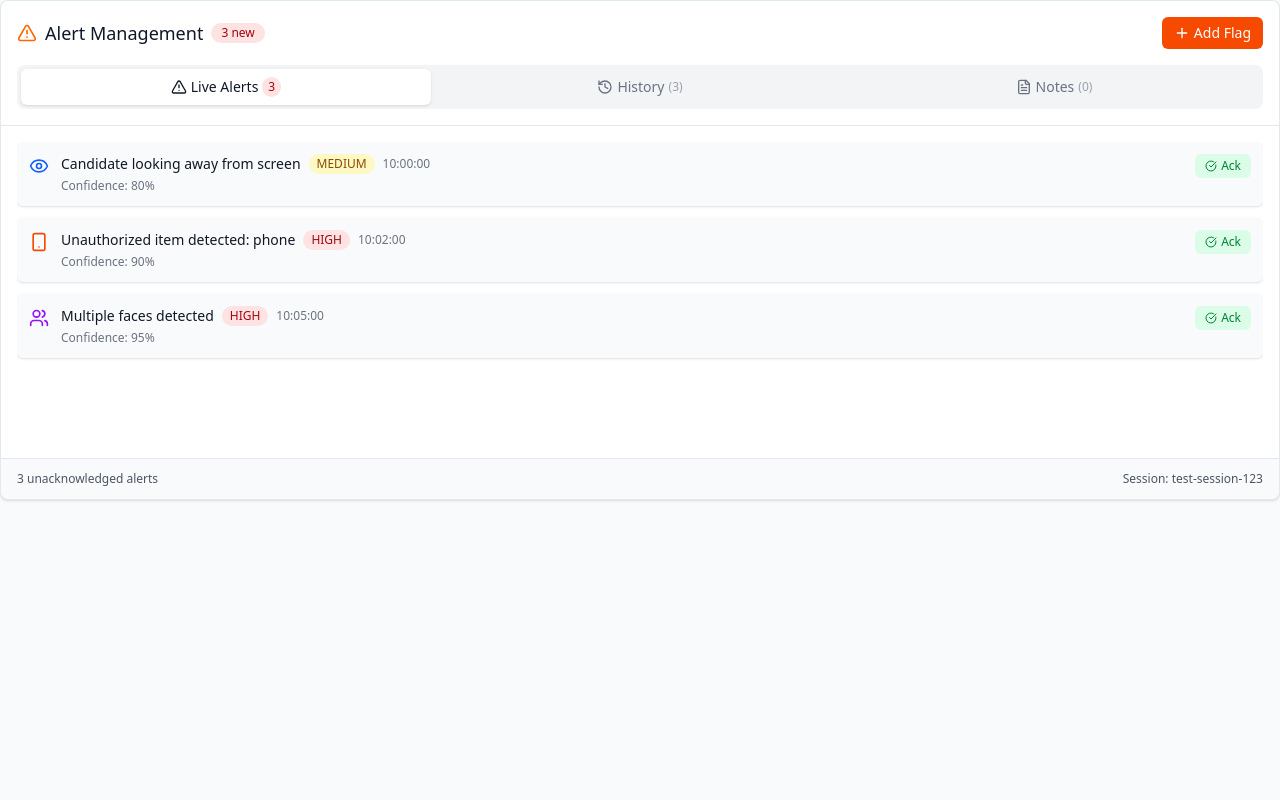
AlertManagementPanel › Manual Flag Functionality › adds manual flag to notes after submission
# Add a flag
Click the button with test id "toggle-manual-flag".
click(1212, 33)  # box [1162,17,1263,49]
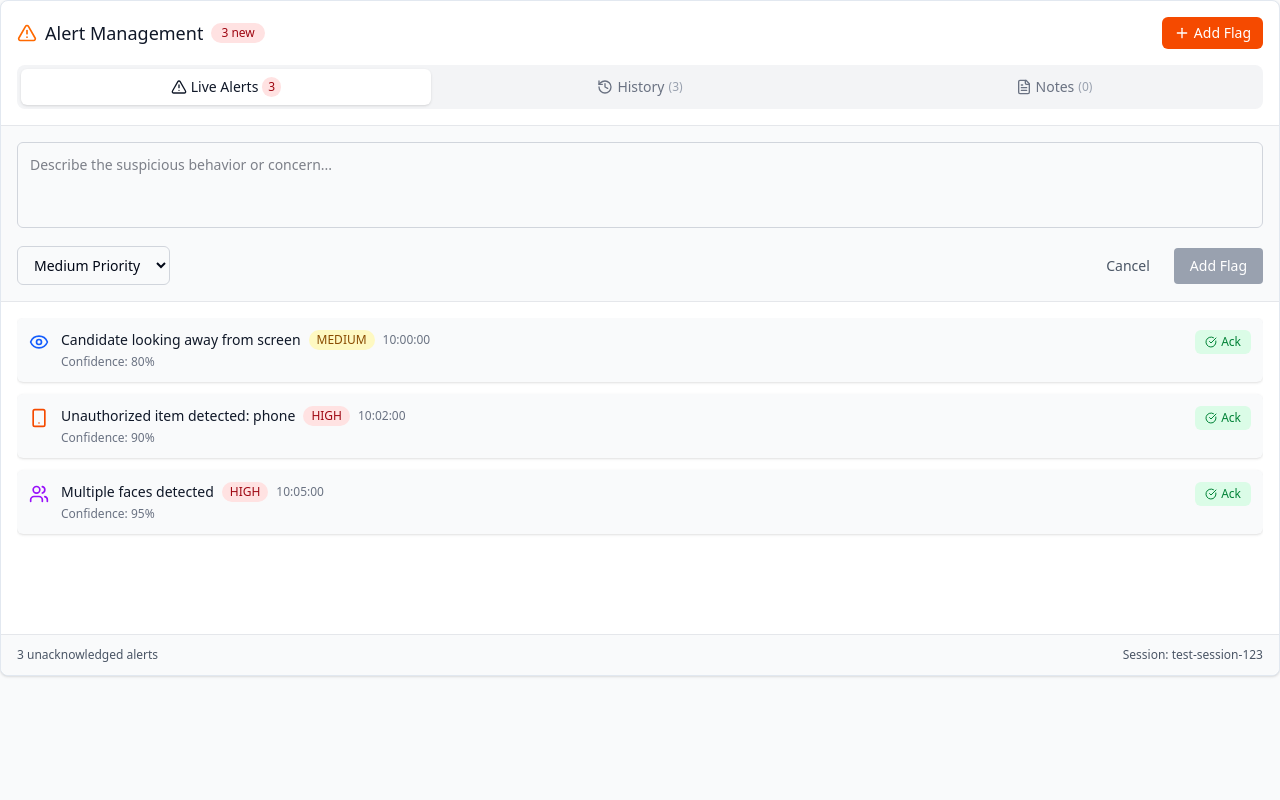
Type "Test note" into the text box with placeholder "Describe the suspicious behavior or concern...".
click(640, 185); type("Test note")  # box [17,142,1263,228]
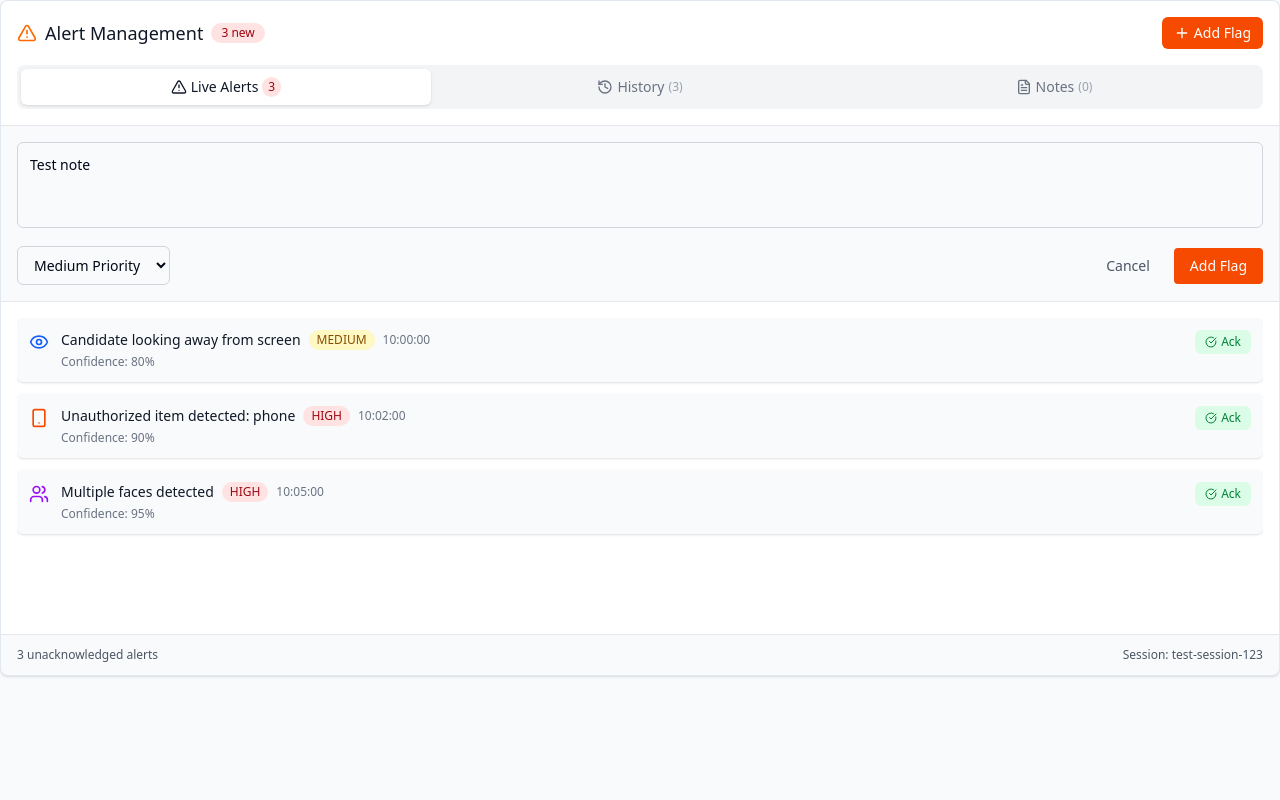
Click the button with test id "submit-manual-flag".
click(1218, 266)  # box [1174,248,1263,284]
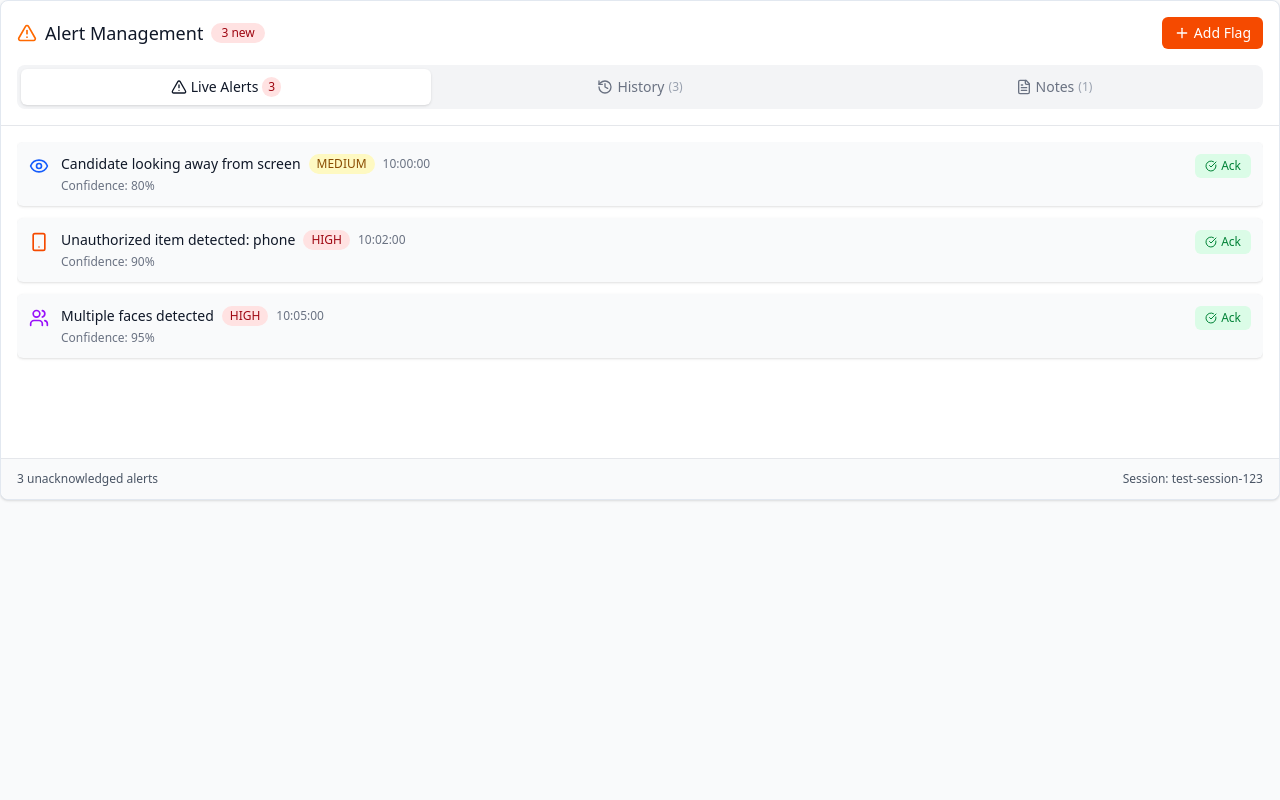
# Switch to notes view
Click the text "Notes".
click(1055, 87)  # box [1036,77,1074,97]
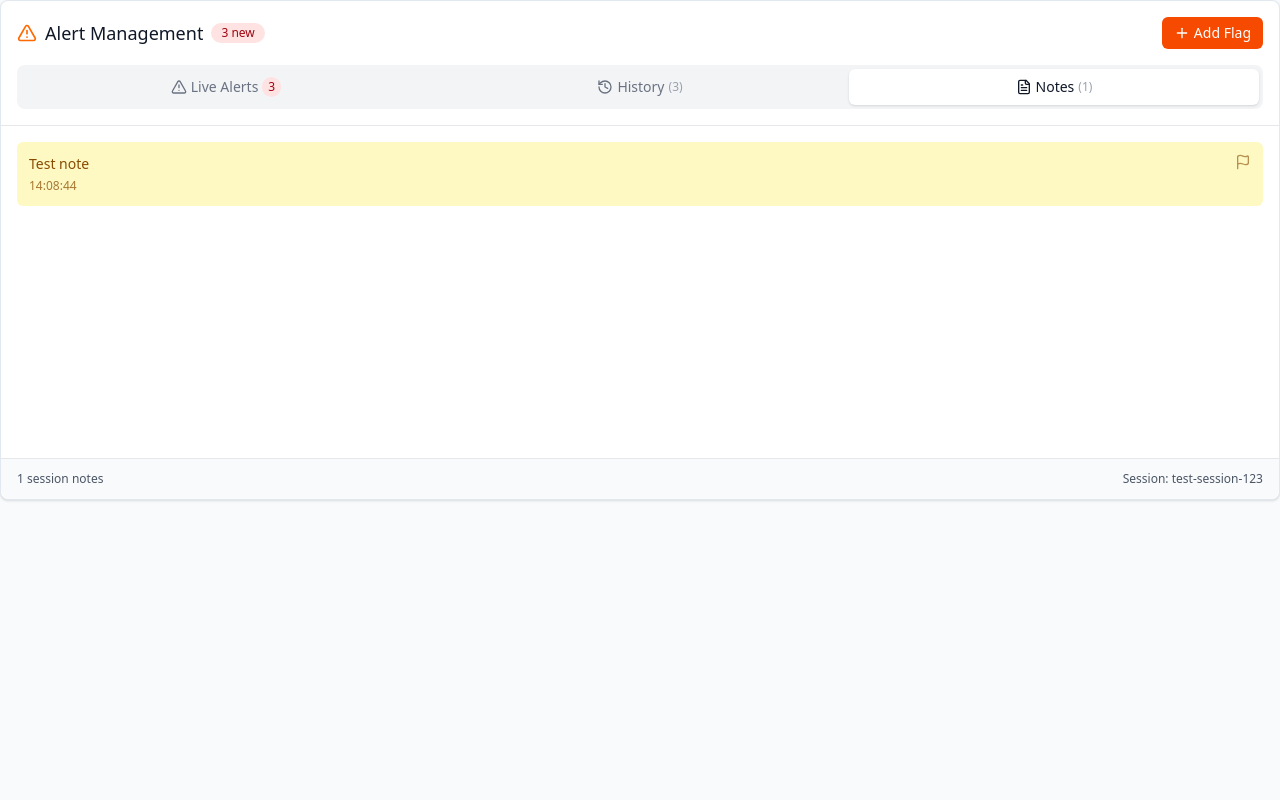
Expected: the text "(1)" is shown, [1078,79,1092,95]
Expected: the text "Test note" is shown, [29,154,89,173]
